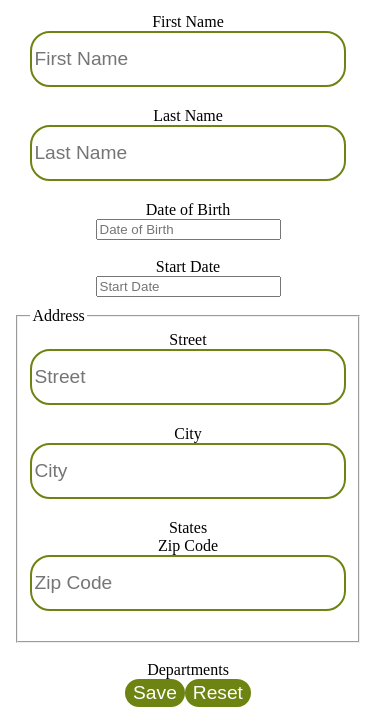
Test: When the Header component is render › When I click on the reset button › Then it should clear all inputs
Type "Bruce" into the field with test id "firstName".
click(188, 59); type("Bruce")  # box [30,31,346,87]
Type "Wayne" into the field with test id "lastName".
click(188, 153); type("Wayne")  # box [30,125,346,181]
Type "12/25/1950" into the field with placeholder "Date of Birth".
click(188, 230); type("12/25/1950")  # box [96,219,280,240]
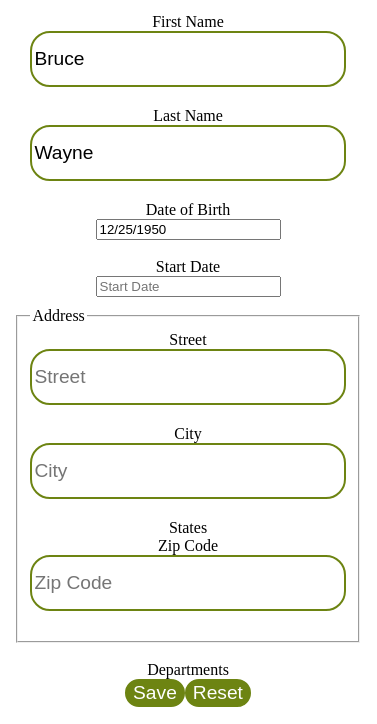
Type "Manor of Wayne" into the field with test id "street".
click(188, 377); type("Manor of Wayne")  # box [30,349,346,405]
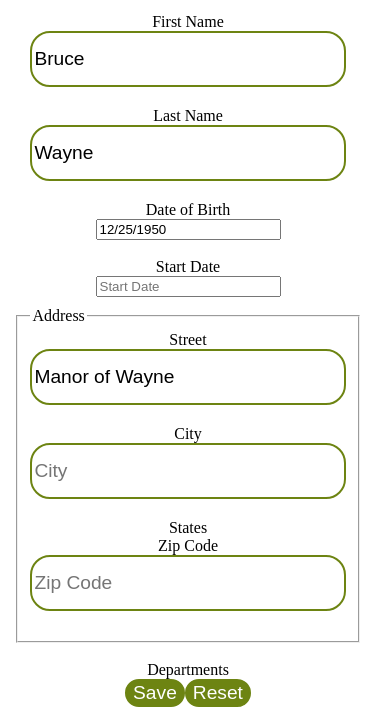
Type "GothamCity" into the field with test id "city".
click(188, 471); type("GothamCity")  # box [30,443,346,499]
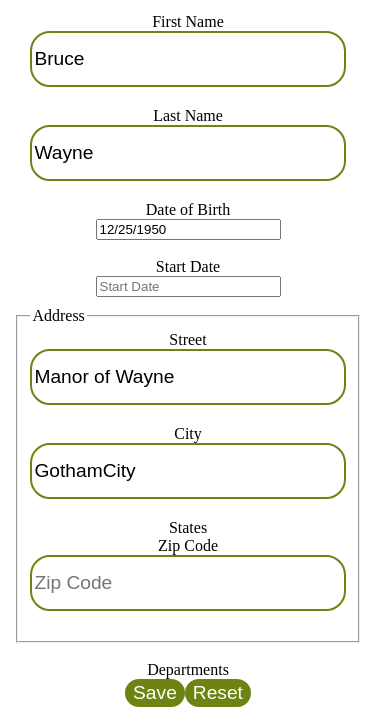
Type "90265" into the number field with test id "zipCode".
click(188, 583); type("90265")  # box [30,555,346,611]
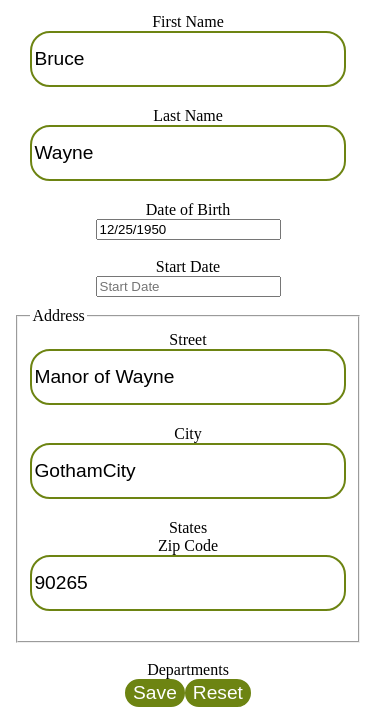
Type "08/13/1995" into the field with placeholder "Start Date".
click(188, 286); type("08/13/1995")  # box [96,276,280,297]
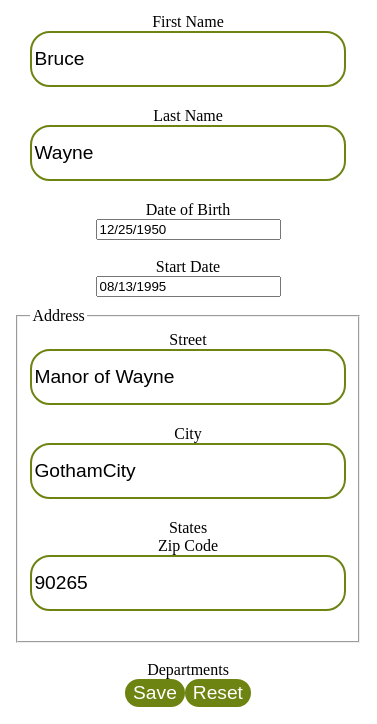
Click the button with test id "resetButton".
click(218, 693)  # box [185,679,251,707]
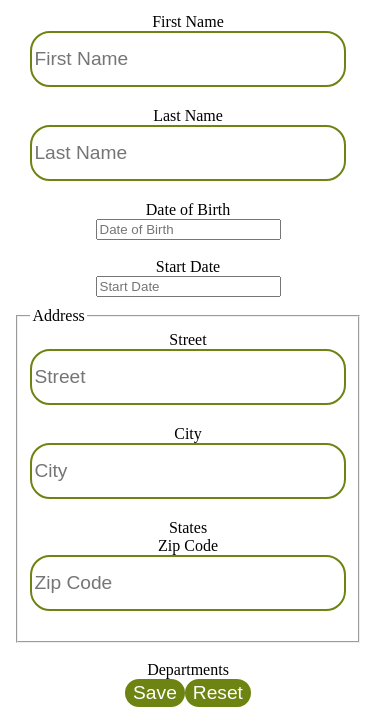
Now the field with test id "firstName" is empty, box [30,31,346,87]
Now the field with test id "lastName" is empty, box [30,125,346,181]
Now the field with placeholder "Start Date" is empty, box [96,276,280,297]
